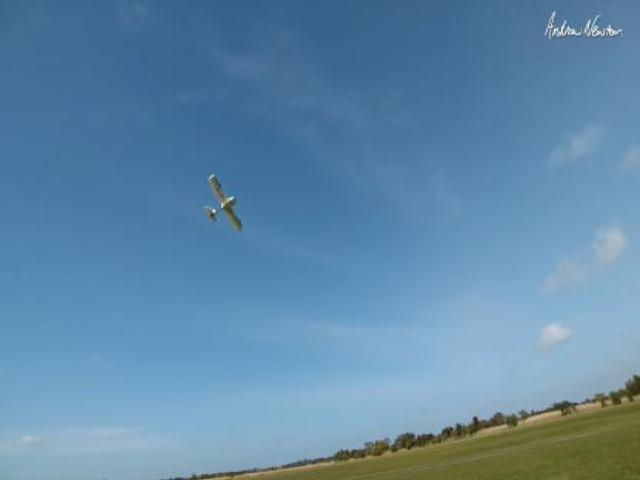uav: (198, 167, 248, 237)
